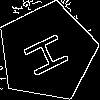H: (22, 27, 79, 80)
